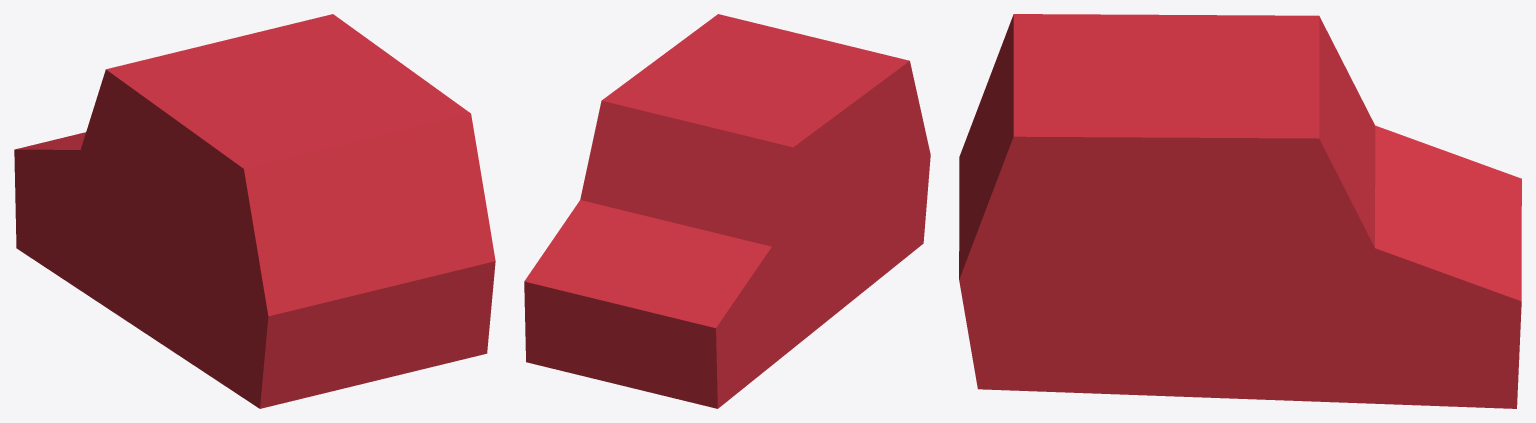
File: Voiture.glb
3 renders of one model, left to right at view 1: azimuth 30°, elevation 25°; view 2: azimuth 150°, elevation 25°; view 3: azimuth 270°, elevation 25°, orthographic. The views are drawn at different scales.
Visible parts, largest first — view 1: VOITURE.clone.002; view 2: VOITURE.clone.002; view 3: VOITURE.clone.002.
Part boxes in pixels (x1,y1,x2,y2): VOITURE.clone.002: (14,14,495,408); VOITURE.clone.002: (524,14,930,408); VOITURE.clone.002: (959,14,1521,408).
Bounding box in the file's own units: 0.2952 × 0.3053 × 0.5719.
1 material, 1 textured.
